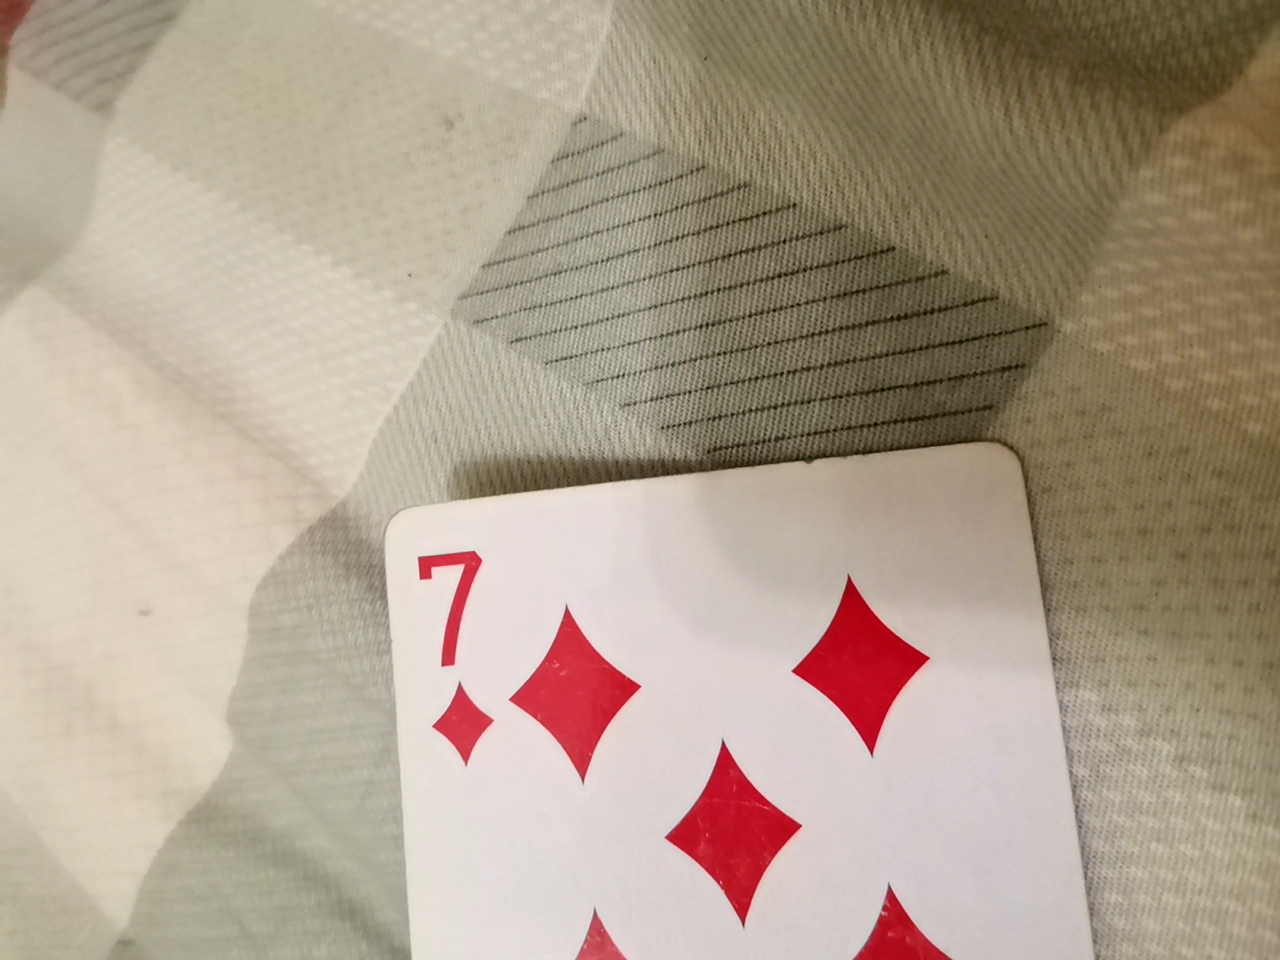fk 7: (374, 445, 1176, 955)
